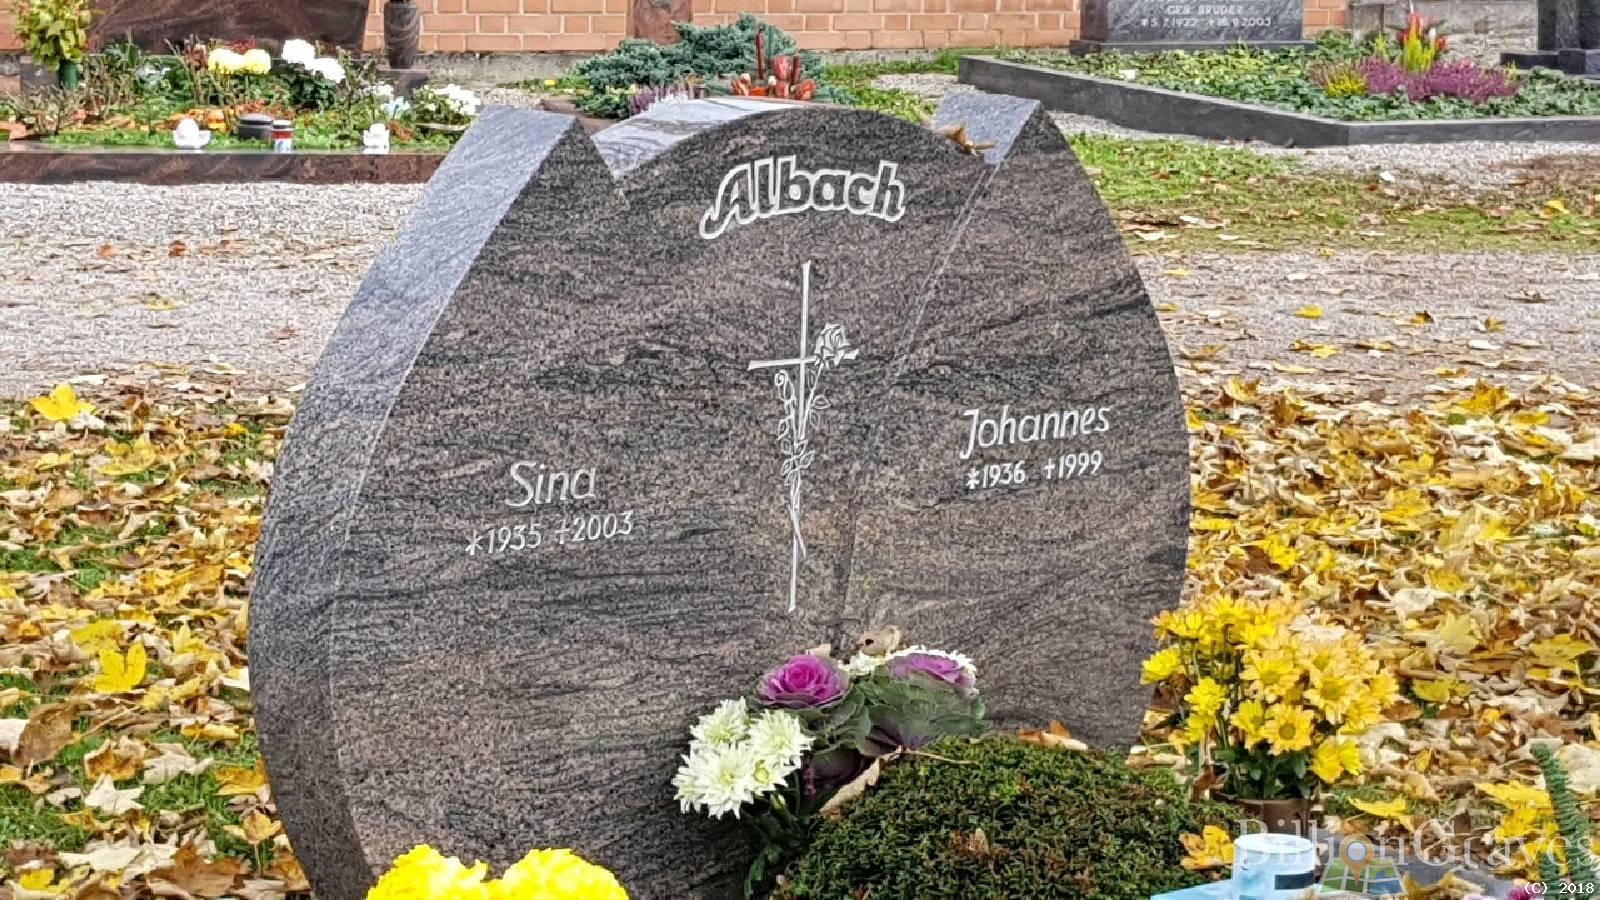upright: (253, 18, 1211, 900)
